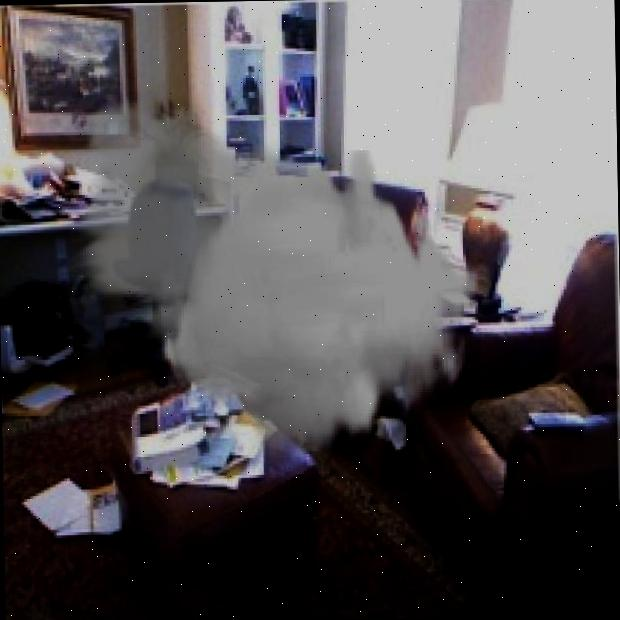smoke: (60, 77, 484, 461)
